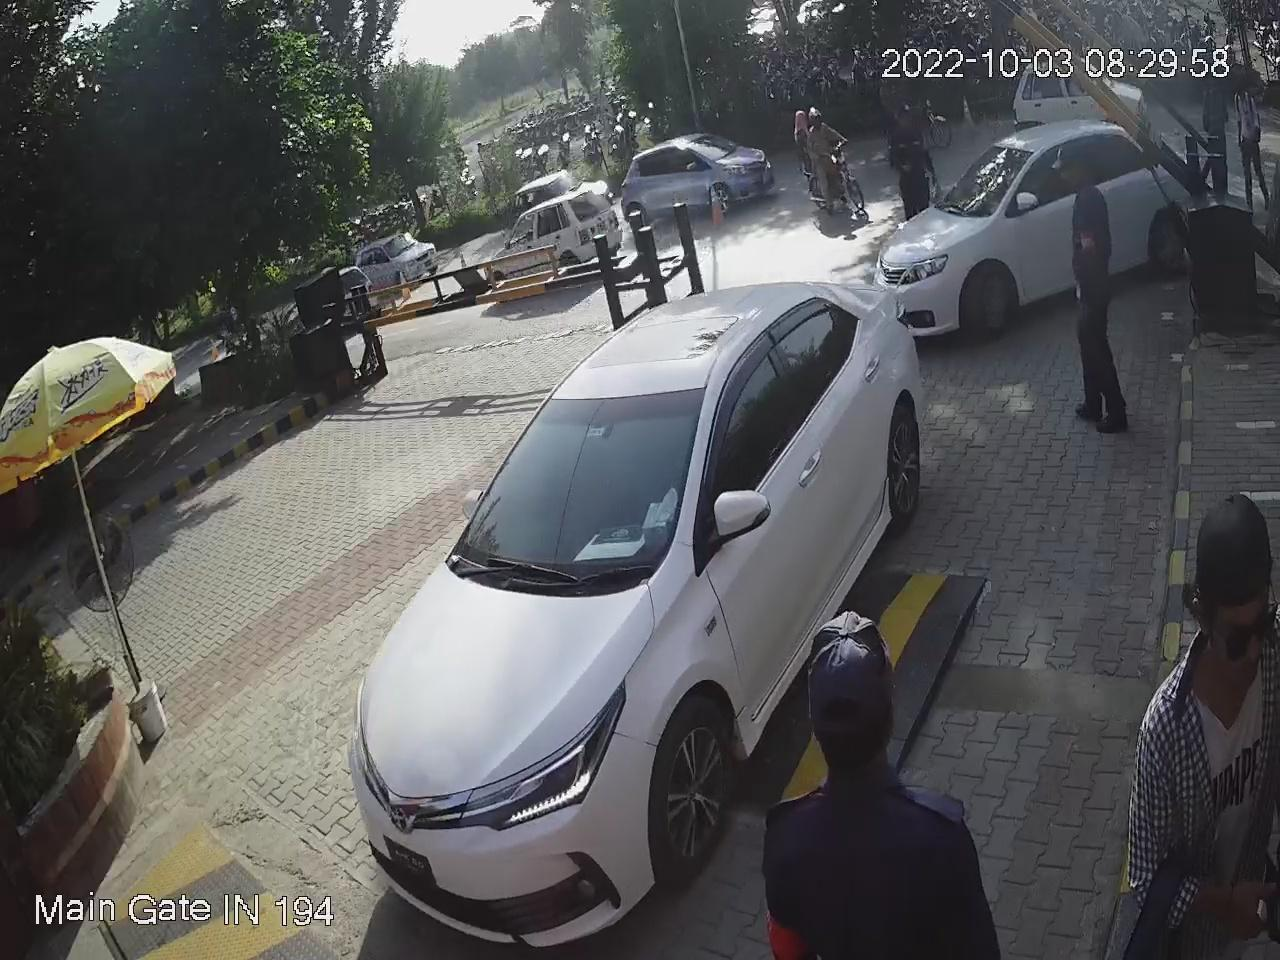windshield: (445, 387, 711, 588)
